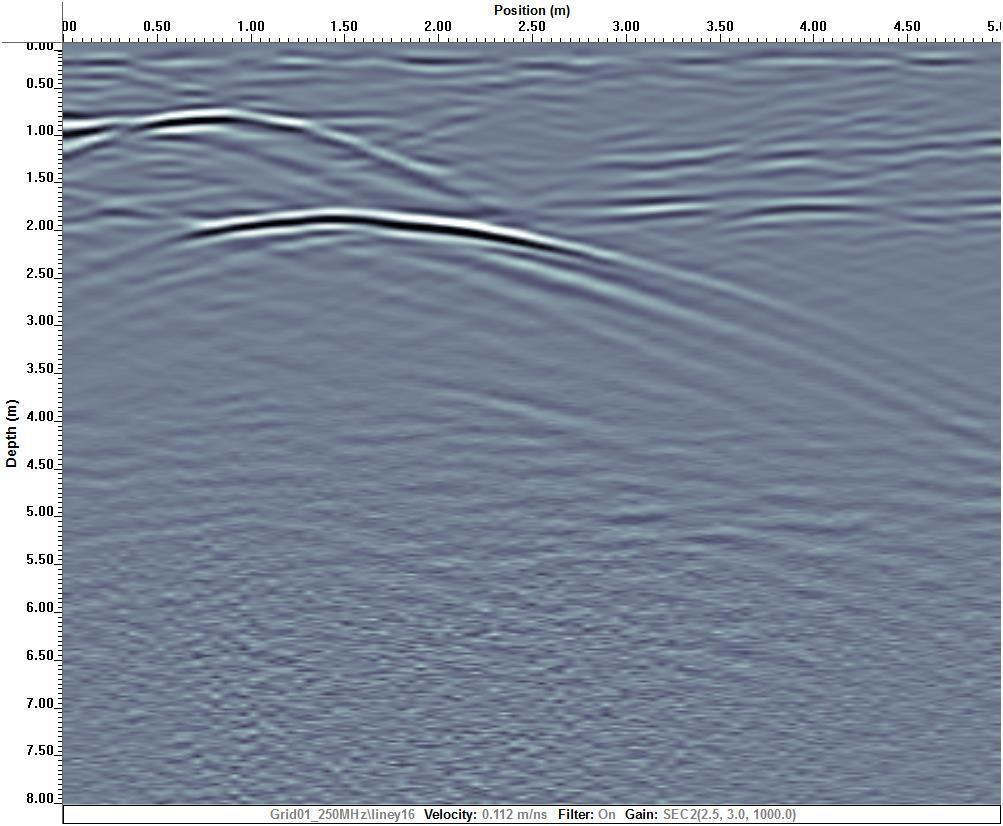hyperbola: (165, 182, 645, 308), (66, 97, 368, 178)
